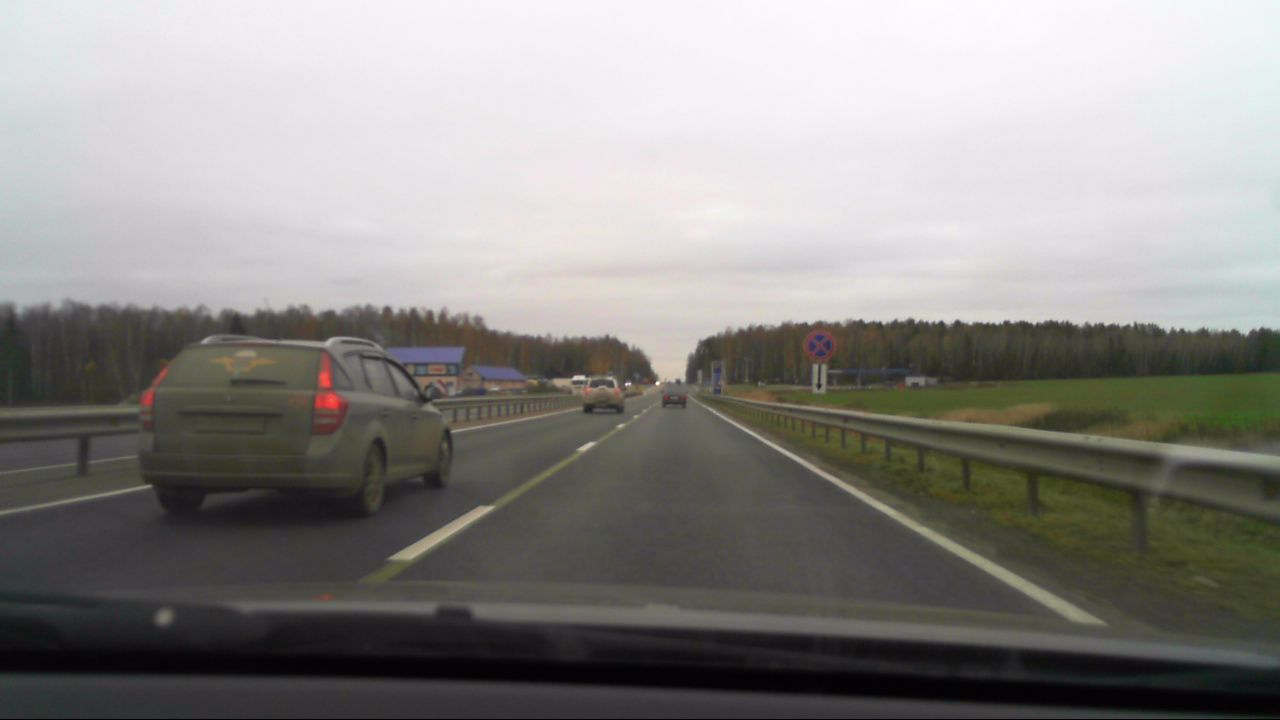No Parking: (803, 329, 834, 362)
